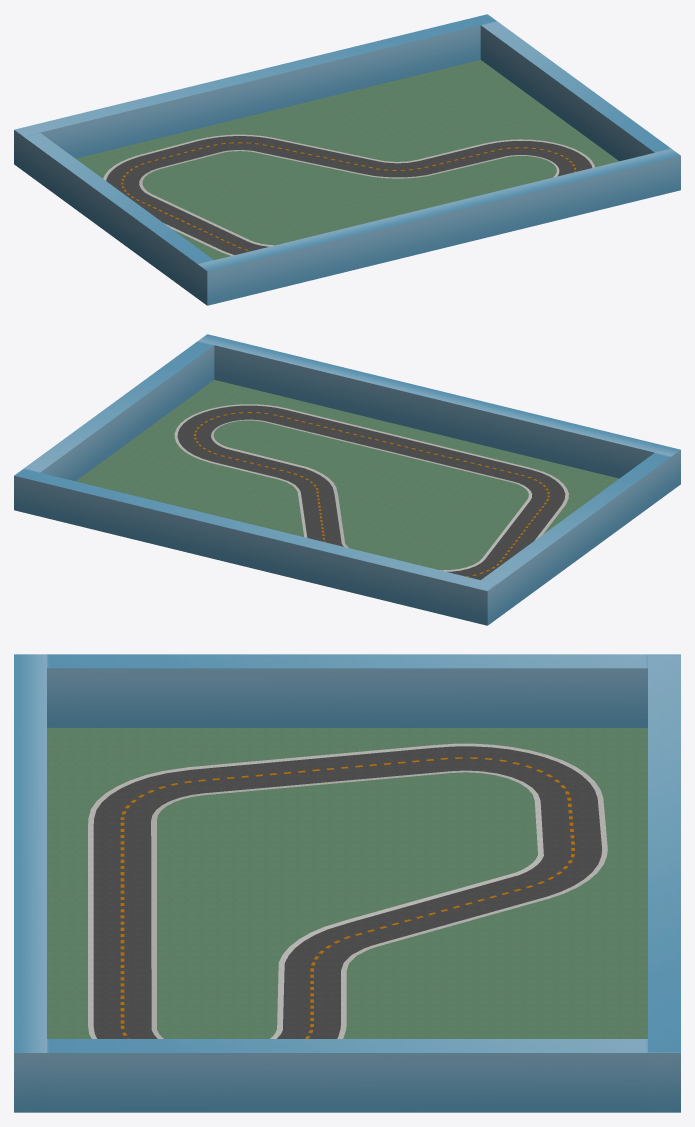
Rendered from Track3_and_Wall.dae.
3 renders of one model, top to bottom at view 1: azimuth 30°, elevation 25°; view 2: azimuth 150°, elevation 25°; view 3: azimuth 270°, elevation 25°, orthographic. The views are drawn at different scales.
Parts seen in each view (by area): view 1: field, bottomWall, topWall, Track1, leftWall, rightWall, whiteLines, dottedLine; view 2: field, topWall, bottomWall, Track1, leftWall, rightWall, whiteLines, dottedLine; view 3: field, leftWall, rightWall, Track1, bottomWall, topWall, whiteLines, dottedLine.
Part boxes in pixels (left/top/right/bottom): field: left=76, top=60, right=618, bottom=259; bottomWall: left=197, top=148, right=680, bottom=305; topWall: left=14, top=14, right=496, bottom=170; Track1: left=106, top=136, right=592, bottom=254; leftWall: left=23, top=132, right=213, bottom=298; rightWall: left=480, top=21, right=670, bottom=161; whiteLines: left=103, top=134, right=594, bottom=255; dottedLine: left=121, top=142, right=576, bottom=250; field: left=76, top=380, right=618, bottom=570; topWall: left=14, top=468, right=497, bottom=625; bottomWall: left=198, top=334, right=680, bottom=490; Track1: left=177, top=405, right=565, bottom=579; leftWall: left=481, top=452, right=671, bottom=618; rightWall: left=24, top=341, right=214, bottom=481; whiteLines: left=174, top=404, right=568, bottom=571; dottedLine: left=194, top=412, right=549, bottom=576; field: left=47, top=728, right=647, bottom=1038; leftWall: left=47, top=654, right=647, bottom=727; rightWall: left=47, top=1039, right=647, bottom=1112; Track1: left=93, top=746, right=602, bottom=1038; bottomWall: left=14, top=654, right=46, bottom=1112; topWall: left=648, top=654, right=680, bottom=1112; whiteLines: left=88, top=743, right=607, bottom=1038; dottedLine: left=120, top=757, right=574, bottom=1038.
Size of the model in its own units: 7.17 by 5.07 by 0.5.
5 materials, 5 textured.
